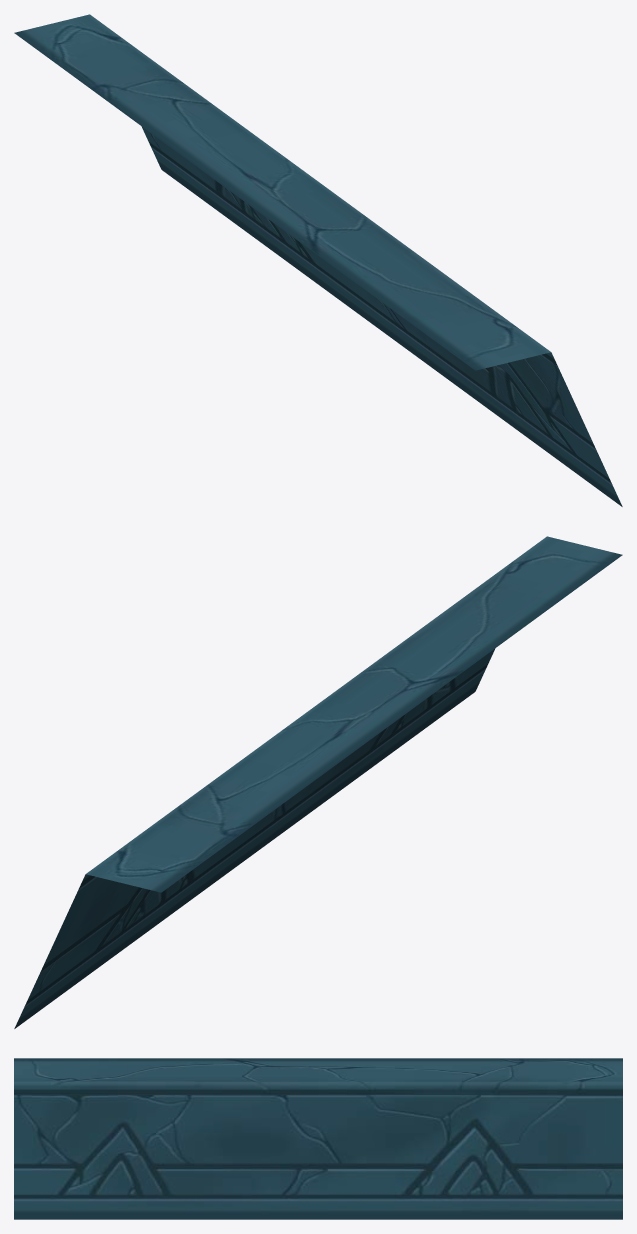
Rendered from floor_lining_straight.fbx.
3 renders of one model, top to bottom at view 1: azimuth 30°, elevation 25°; view 2: azimuth 150°, elevation 25°; view 3: azimuth 270°, elevation 25°, orthographic. The views are drawn at different scales.
Visible parts, largest first — view 1: floor_lining; view 2: floor_lining; view 3: floor_lining.
Boxes of the visible parts, x1,y1,x2,y2 form: floor_lining: (14,14,622,506); floor_lining: (14,536,622,1028); floor_lining: (14,1058,622,1219).
Bounding box in the file's own units: 0.3682 × 0.4124 × 2.
